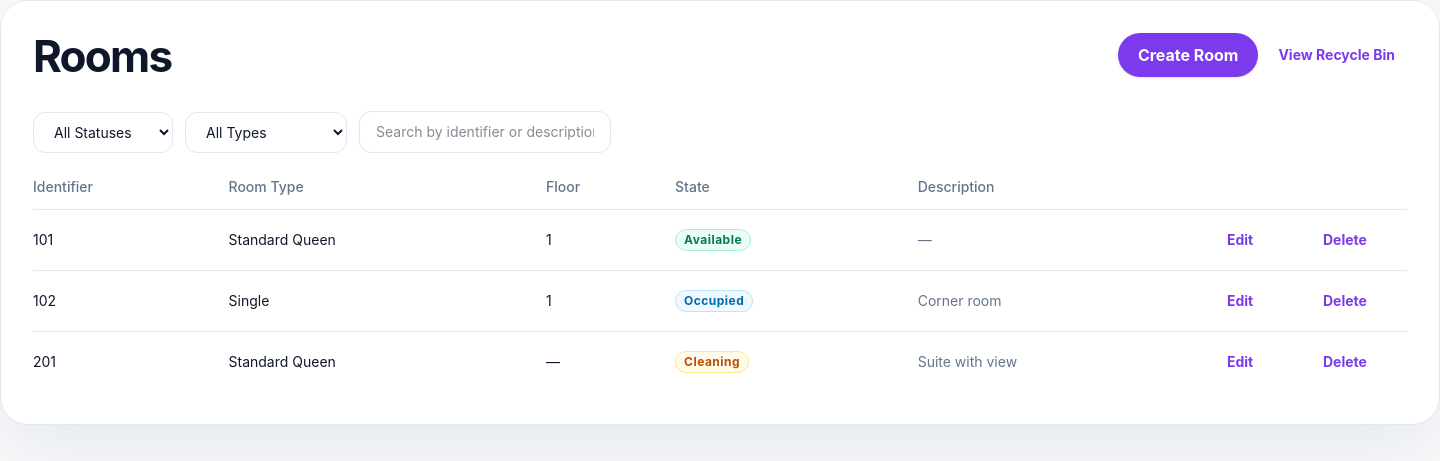
RoomsPage › status filter › narrows results when a status is selected
Step 1. Select "Occupied" in the dropdown named "Status filter" → (103, 132), box [33,112,173,153]
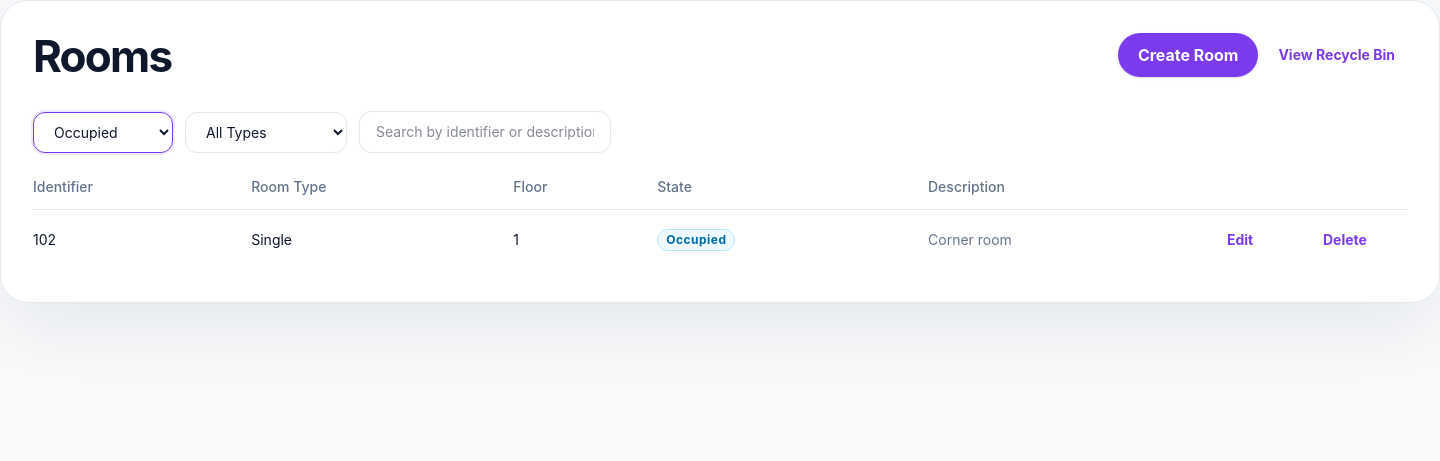
Expected: the text "102" is shown, [33,210,251,270]
Now the text "101" is gone
Now the text "201" is gone
